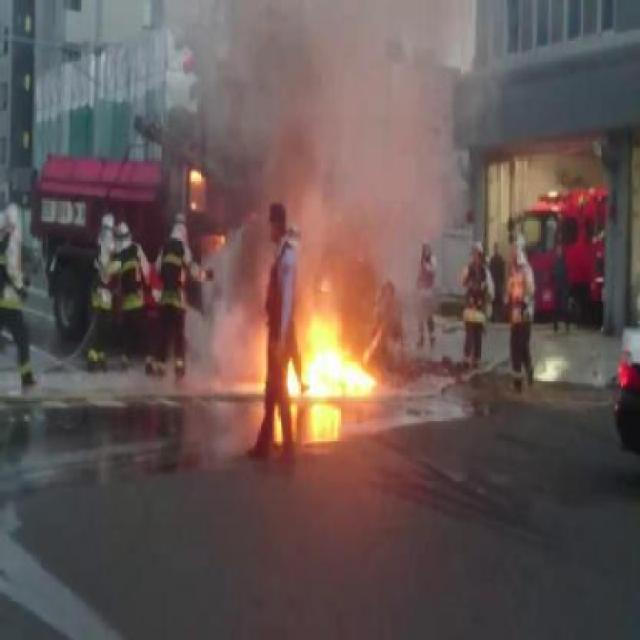Fire: (286, 352, 377, 396), (306, 316, 339, 350)
